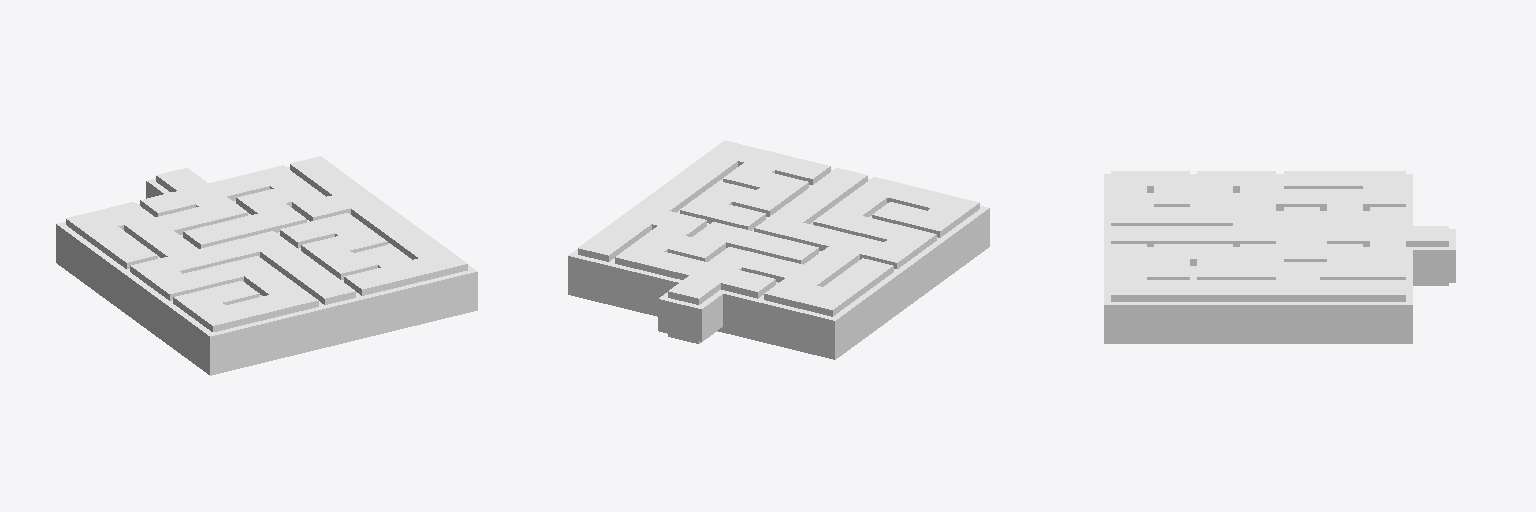
3 views of the same model, side by side, from view 1: azimuth 30°, elevation 25°; view 2: azimuth 150°, elevation 25°; view 3: azimuth 270°, elevation 25° (orthographic).
Visible parts, largest first — view 1: 4482-app-3-levels__22_4_5_to_64_13_53; view 2: 4482-app-3-levels__22_4_5_to_64_13_53; view 3: 4482-app-3-levels__22_4_5_to_64_13_53.
Part boxes in pixels (x1,y1,x2,y2): 4482-app-3-levels__22_4_5_to_64_13_53: (56,156,477,375); 4482-app-3-levels__22_4_5_to_64_13_53: (568,140,989,359); 4482-app-3-levels__22_4_5_to_64_13_53: (1104,171,1455,343).
Bounding box in the file's own units: 43 × 7 × 49.